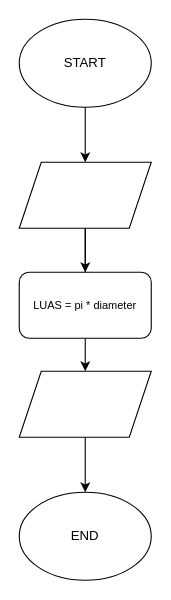
This 171x600 diagram has some shape labels left out. The shapes that lost their labels are listed below. From the top down, each one's centre as x and y in pixels, then its label:
At point 84,194: "INPUT DIAMETER".
At point 84,403: "OUTPUT LUAS LINGKARAN".
